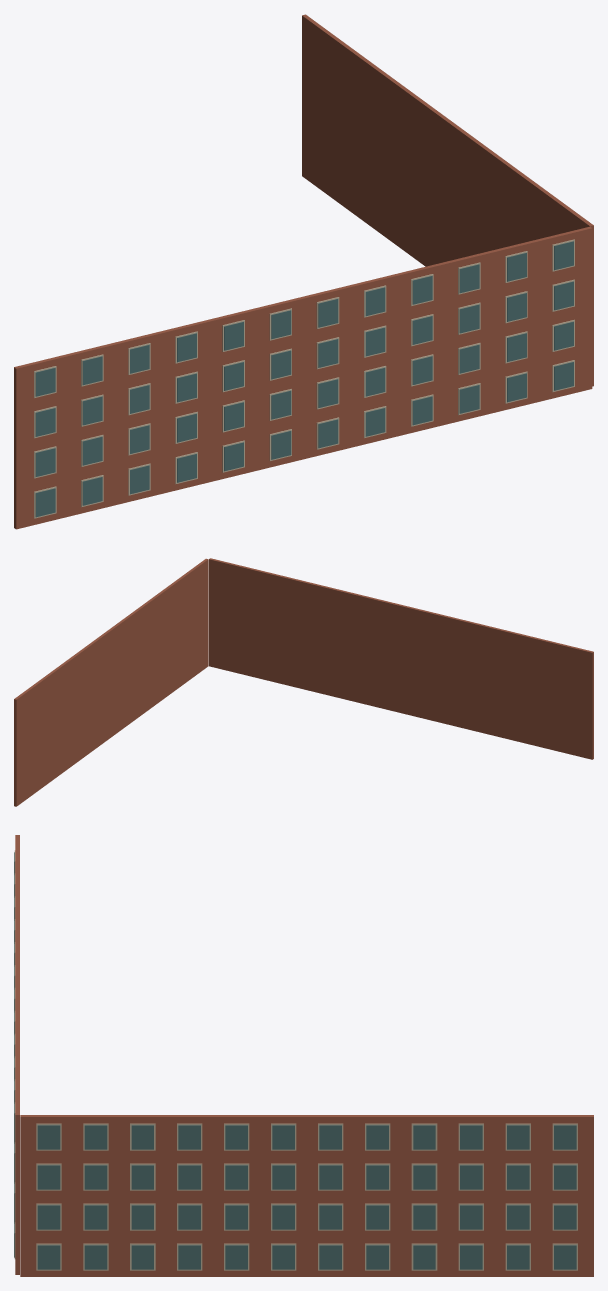
The model's file is hedco-exterior-detail-2026-11-04.glb.
3 renders of one model, top to bottom at view 1: azimuth 30°, elevation 25°; view 2: azimuth 150°, elevation 25°; view 3: azimuth 270°, elevation 25°, orthographic. The views are drawn at different scales.
Parts seen in each view (by area): view 1: exterior-detail-building; view 2: exterior-detail-building; view 3: exterior-detail-building.
Part boxes in pixels (left/top/right/bottom): exterior-detail-building: left=14, top=14, right=593, bottom=529; exterior-detail-building: left=14, top=558, right=593, bottom=806; exterior-detail-building: left=14, top=835, right=593, bottom=1276.
Bounding box in the file's own units: 60.57 × 16 × 52.57.
